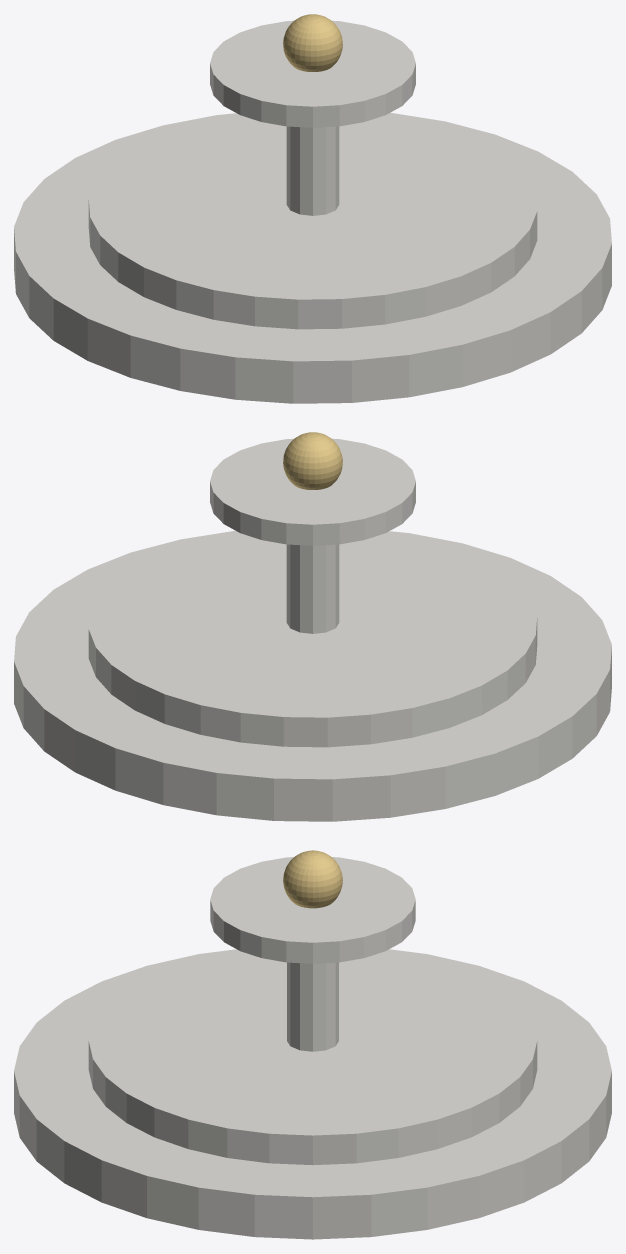
Rendered from nervix_plaza.glb.
3 renders of one model, top to bottom at view 1: azimuth 30°, elevation 25°; view 2: azimuth 150°, elevation 25°; view 3: azimuth 270°, elevation 25°, orthographic.
Parts seen in each view (by area): view 1: fountain_bowl, fountain_base, fountain_upper, fountain_column, fountain_finial; view 2: fountain_bowl, fountain_base, fountain_upper, fountain_column, fountain_finial; view 3: fountain_bowl, fountain_base, fountain_upper, fountain_column, fountain_finial.
Boxes of the visible parts, <box> form: fountain_bowl: <box>88,115,537,329</box>; fountain_base: <box>14,112,611,403</box>; fountain_upper: <box>210,20,415,127</box>; fountain_column: <box>286,126,339,215</box>; fountain_finial: <box>283,14,342,71</box>; fountain_bowl: <box>88,533,537,747</box>; fountain_base: <box>14,530,611,821</box>; fountain_upper: <box>210,438,415,545</box>; fountain_column: <box>286,544,339,633</box>; fountain_finial: <box>283,432,342,489</box>; fountain_bowl: <box>88,951,537,1165</box>; fountain_base: <box>14,949,611,1239</box>; fountain_upper: <box>210,857,415,963</box>; fountain_column: <box>287,962,338,1051</box>; fountain_finial: <box>283,850,342,908</box>.
Size of what is drawn, in the model's own units: 6.4 by 3.07 by 6.4.
